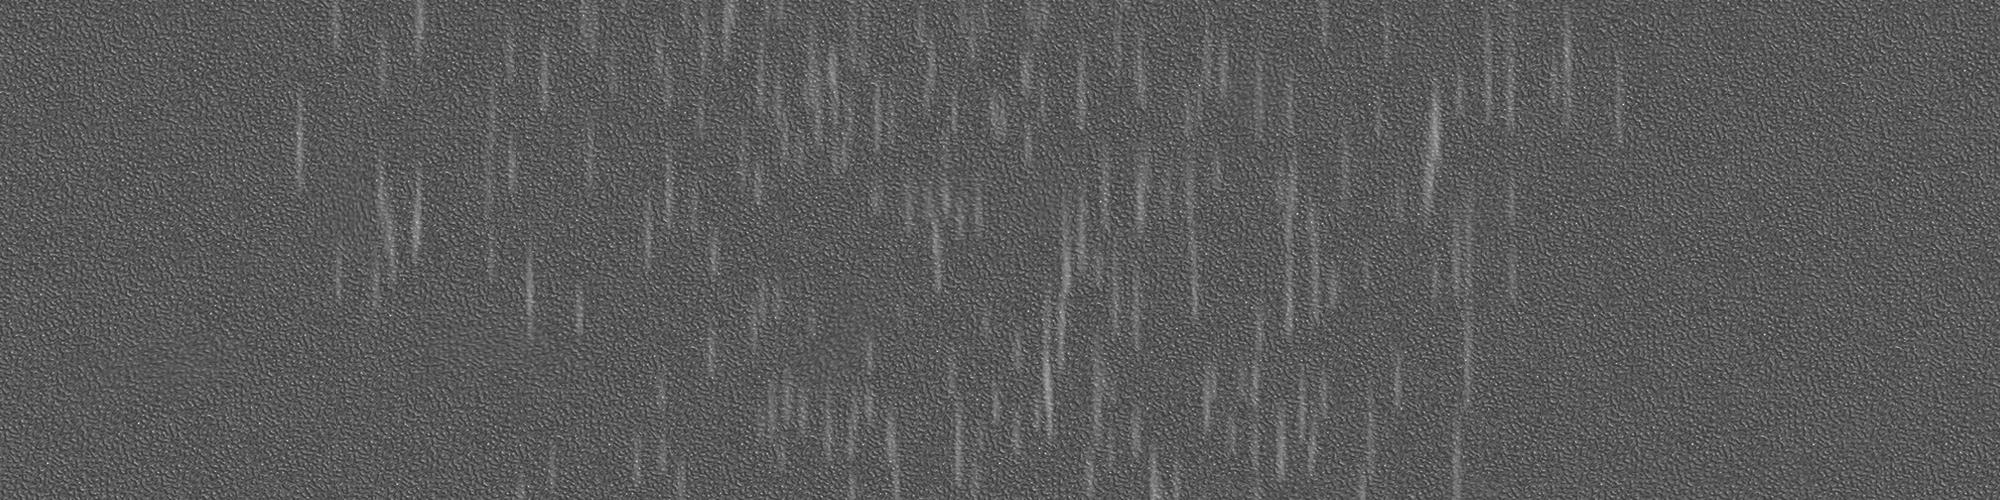Streaks: (1038, 142, 1156, 500), (1253, 55, 1352, 341), (901, 4, 1052, 170), (1207, 304, 1335, 496), (758, 358, 907, 497), (737, 36, 858, 207), (860, 153, 994, 295), (1426, 187, 1483, 499), (934, 316, 1034, 491), (1165, 145, 1230, 321), (480, 19, 520, 295), (1070, 6, 1159, 129), (1357, 343, 1421, 497), (740, 261, 828, 360), (694, 3, 750, 149), (1177, 22, 1245, 135), (1474, 6, 1523, 139), (642, 138, 687, 270), (571, 3, 602, 193), (369, 148, 399, 318), (626, 427, 695, 500), (1596, 36, 1638, 153), (1551, 3, 1585, 142), (815, 1, 876, 79), (1411, 80, 1448, 207), (276, 73, 314, 190), (638, 17, 679, 122), (1503, 159, 1526, 319), (866, 70, 908, 149), (517, 227, 541, 360), (514, 432, 562, 499), (562, 269, 596, 355), (1142, 455, 1202, 500), (401, 163, 423, 277), (318, 0, 356, 68), (1304, 3, 1348, 60), (370, 34, 395, 119), (1378, 1, 1404, 79), (531, 15, 548, 128), (327, 219, 349, 305), (679, 182, 707, 251), (702, 218, 726, 296), (647, 358, 675, 418), (408, 3, 430, 79), (1444, 51, 1463, 136), (857, 335, 889, 379), (705, 312, 722, 395)
